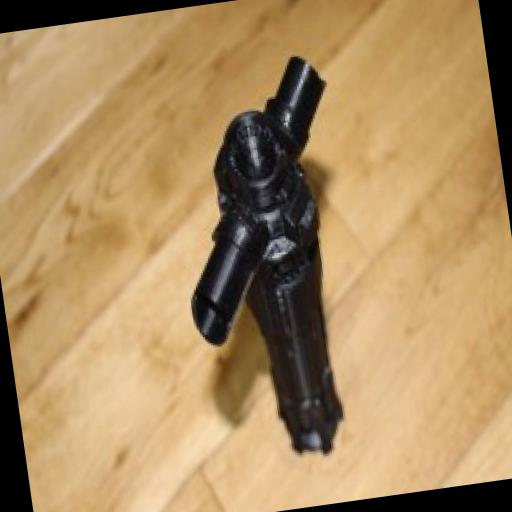lightsaber: (158, 44, 377, 475)
